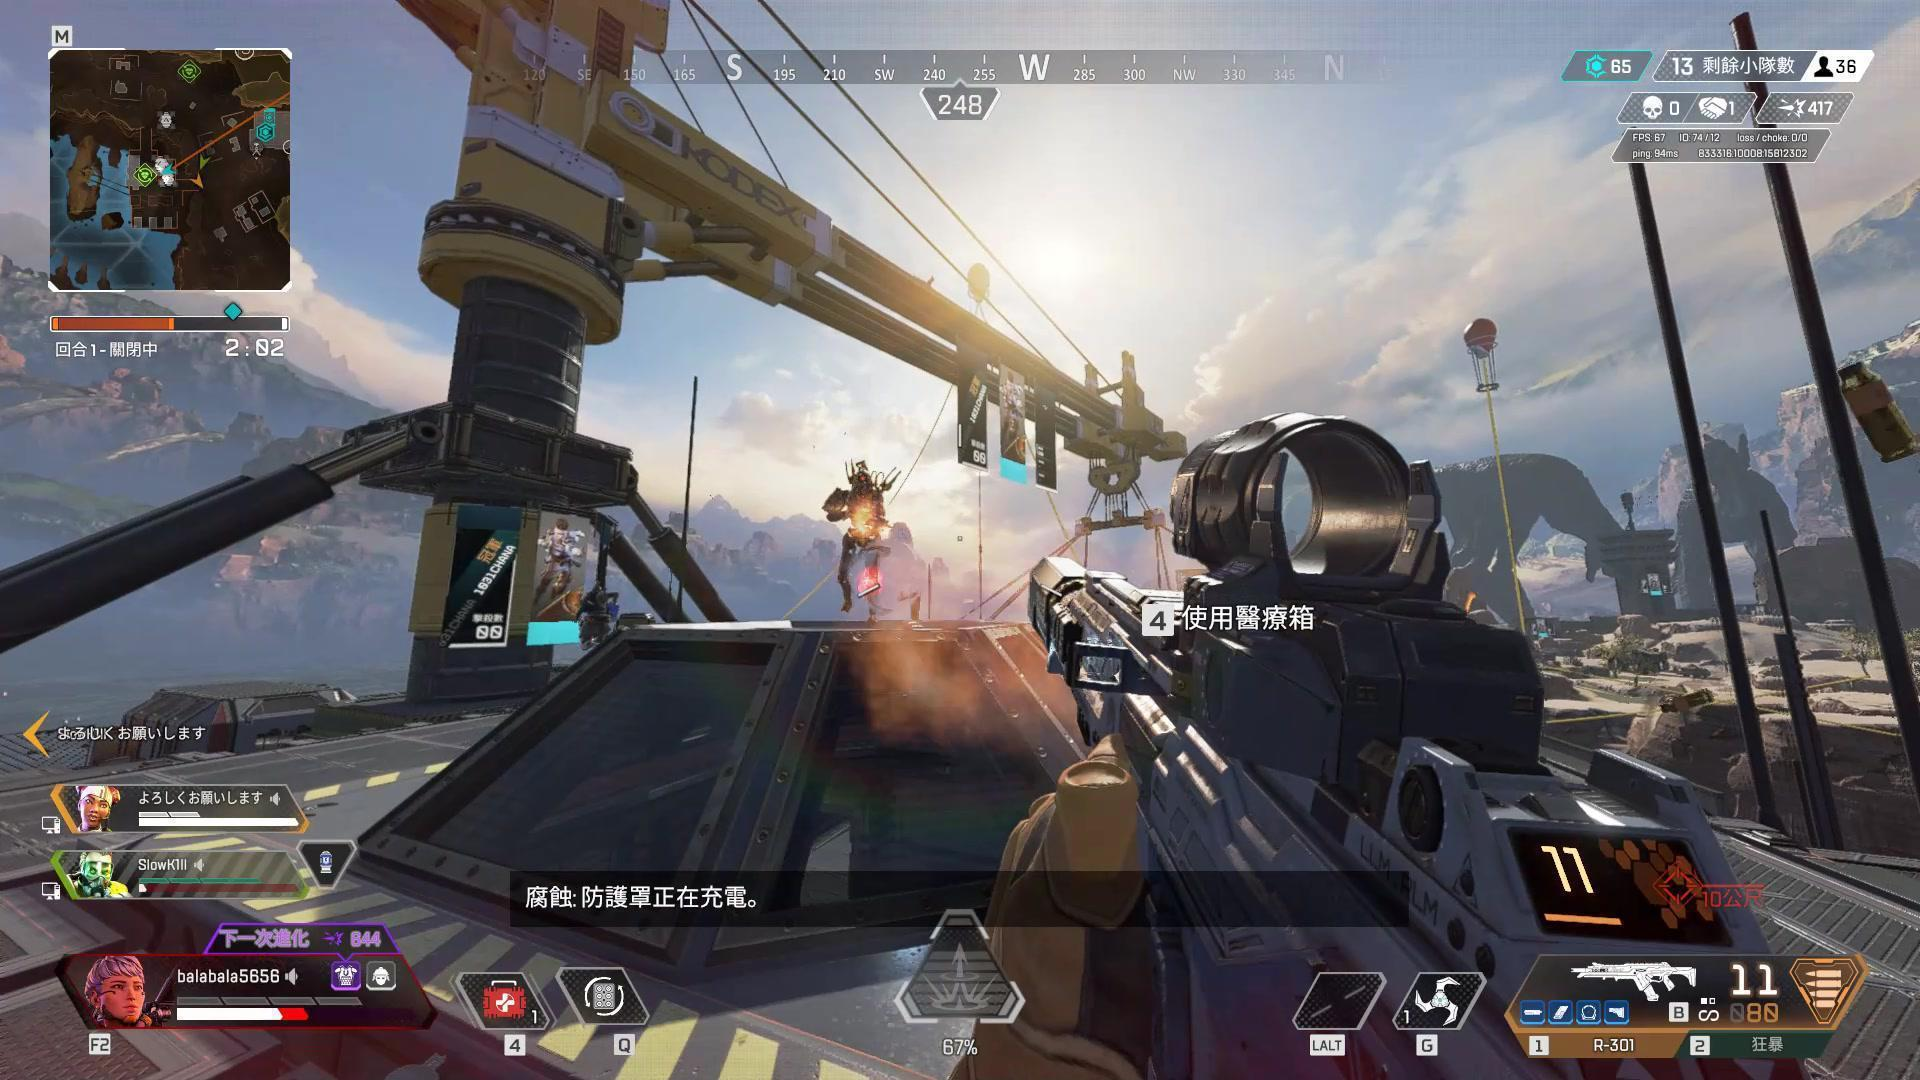avatar: (819, 459, 889, 623)
